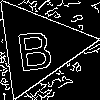B: (12, 21, 56, 72)
